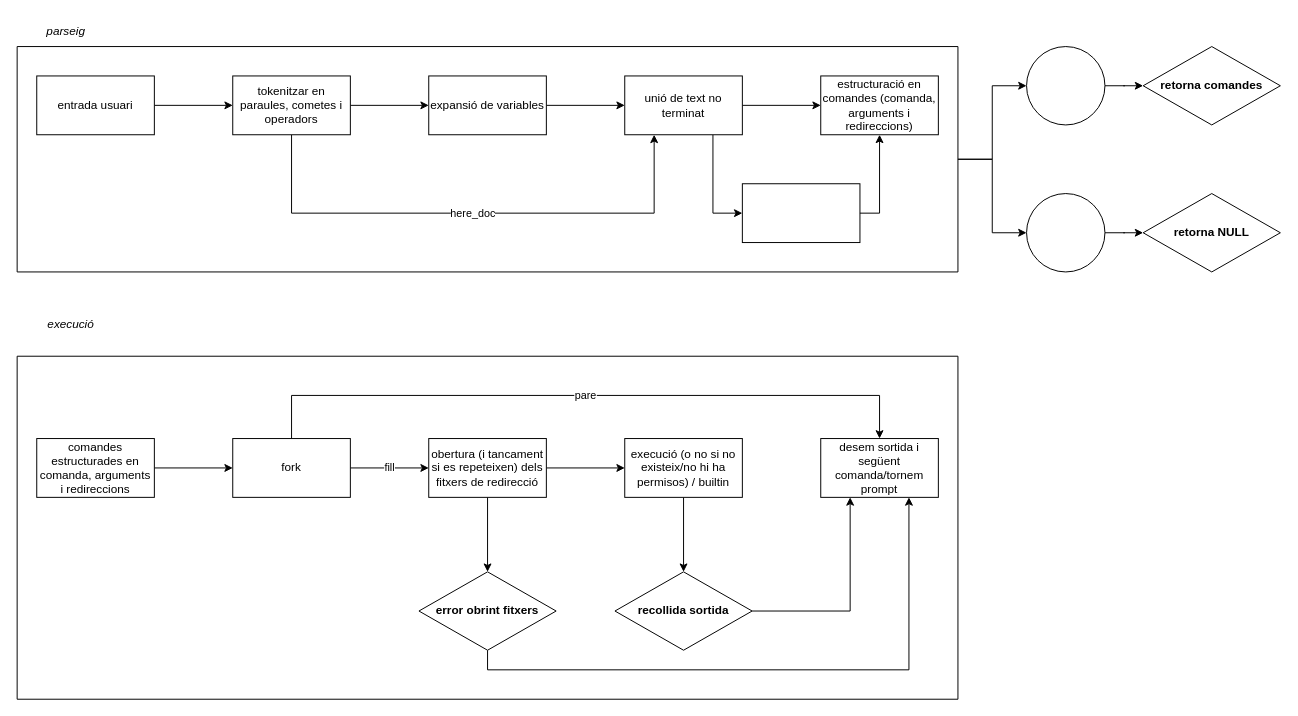
The diagram is 1298 pixels wide and 716 high, and some of its shapes have lost their labels. The box of each missing label's shape, as (x1, y1, x2, y2) in pixels:
lectura de here_doc, expansió de variables: (741, 183, 860, 243)
sintaxi correcta: (1026, 46, 1105, 125)
sintaxi errònia: (1026, 193, 1105, 272)
